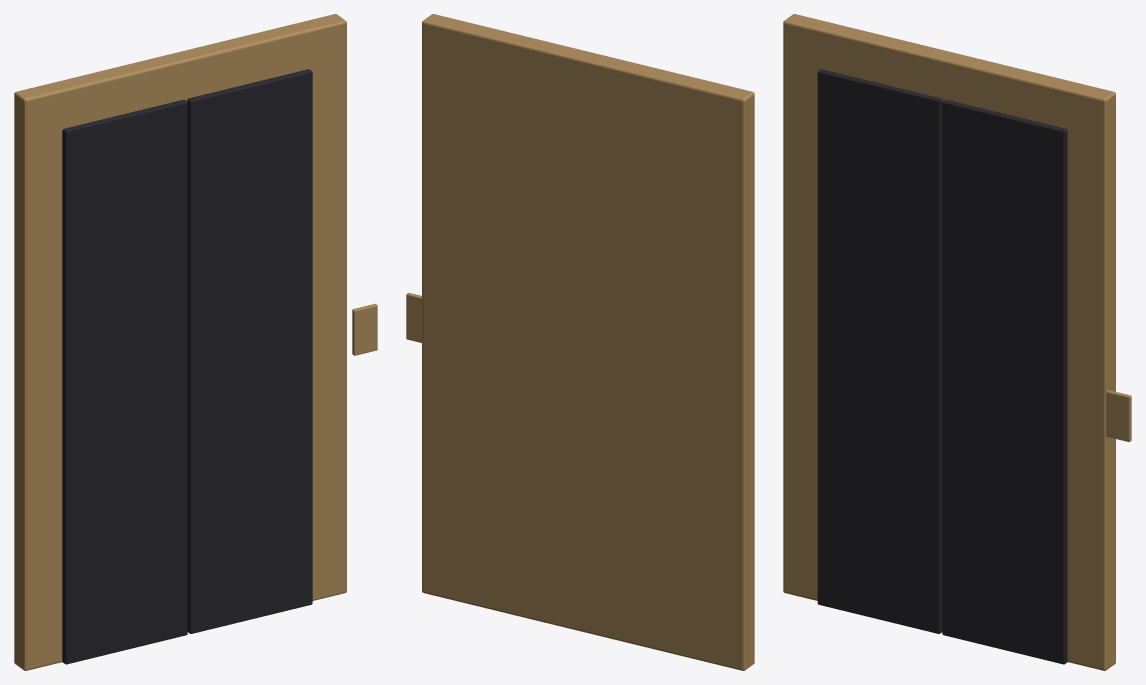
File: lift-doors.glb
3 renders of one model, left to right at view 1: azimuth 30°, elevation 25°; view 2: azimuth 150°, elevation 25°; view 3: azimuth 330°, elevation 25°, orthographic.
Visible parts, largest first — view 1: lift_leaf_-1, lift_leaf_1, lift_frame, lift_plate; view 2: lift_frame, lift_plate; view 3: lift_leaf_1, lift_leaf_-1, lift_frame, lift_plate.
Part boxes in pixels (<box>): lift_leaf_-1: <box>62,99,187,664</box>; lift_leaf_1: <box>187,69,312,633</box>; lift_frame: <box>14,14,346,670</box>; lift_plate: <box>352,303,377,355</box>; lift_frame: <box>422,14,754,670</box>; lift_plate: <box>406,292,421,342</box>; lift_leaf_1: <box>942,99,1067,664</box>; lift_leaf_-1: <box>817,69,942,633</box>; lift_frame: <box>783,14,1115,670</box>; lift_plate: <box>1106,390,1131,441</box>.
Bounding box in the file's own units: 1.62 × 2.52 × 0.115.
